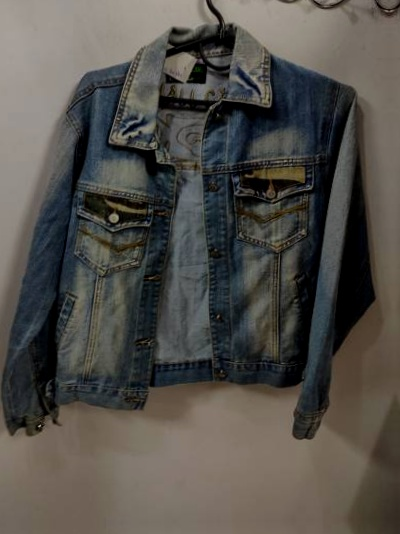Blazer: (0, 58, 373, 448)
